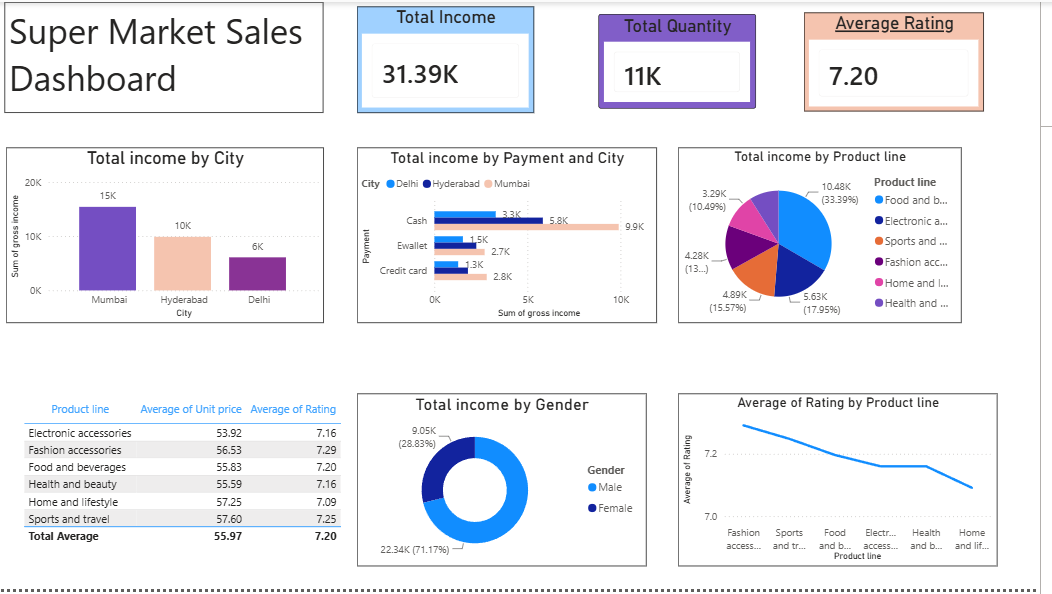

The page's visual inventory and layout, read from the dashboard file:
{"tool":"powerbi","page":{"name":"Page 1","canvas":[1280,720],"ordinal":0},"visuals":[{"type":"textbox","box":[9.4,0,391.2,136.1],"z":0},{"type":"cardVisual","title":"Total Income","fields":{"Data":["Sum(Sheet1.gross income)"]},"box":[441.8,5.5,217.2,130.7],"z":1000},{"type":"cardVisual","title":"Total Quantity","fields":{"Data":["Sum(Sheet1.Quantity)"]},"box":[738.2,14.7,193.3,116],"z":2000},{"type":"cardVisual","title":"Average Rating","fields":{"Data":["Avg(Sheet1.Rating)"]},"box":[990.4,12.9,220.9,121.5],"z":3000},{"type":"columnChart","title":"Total income by City","fields":{"Category":["Sheet1.City"],"Y":["Sum(Sheet1.gross income)"]},"box":[11,178.6,390.3,215.4],"z":4000},{"type":"clusteredBarChart","title":"Total income by Payment and City","fields":{"Category":["Sheet1.Payment"],"Y":["Sum(Sheet1.gross income)"],"Series":["Sheet1.City"]},"box":[441.8,178.6,368.2,215.4],"z":5000},{"type":"lineChart","fields":{"Category":["Sheet1.Product line"],"Y":["Avg(Sheet1.Rating)"]},"box":[835.7,480.5,392.1,211.7],"z":6000},{"type":"pieChart","title":"Total income by Product line","fields":{"Category":["Sheet1.Product line"],"Y":["Sum(Sheet1.gross income)"]},"box":[835.7,178.6,347.9,215.4],"z":6001},{"type":"donutChart","title":"Total income by Gender","fields":{"Category":["Sheet1.Gender"],"Y":["Sum(Sheet1.gross income)"]},"box":[441.8,480.5,355.3,211.7],"z":6002},{"type":"tableEx","fields":{"Values":["Sheet1.Product line","Avg(Sheet1.Unit price)","Avg(Sheet1.Rating)"]},"box":[27.6,484.1,399.5,211.7],"z":6003}]}

Visuals, with their boxes in screenshot pixels (x1, y1, x2, y2), scaled from the page's 1280x720 canvas onto the 1052x594 screenshot:
textbox: bbox(8, 0, 329, 112)
"Total Income" cardVisual: bbox(363, 5, 542, 112)
"Total Quantity" cardVisual: bbox(607, 12, 766, 108)
"Average Rating" cardVisual: bbox(814, 11, 996, 111)
"Total income by City" columnChart: bbox(9, 147, 330, 325)
"Total income by Payment and City" clusteredBarChart: bbox(363, 147, 666, 325)
lineChart - Sheet1.Product line x Avg(Sheet1.Rating): bbox(687, 396, 1009, 571)
"Total income by Product line" pieChart: bbox(687, 147, 973, 325)
"Total income by Gender" donutChart: bbox(363, 396, 655, 571)
tableEx - Sheet1.Product line x Avg(Sheet1.Unit price): bbox(23, 399, 351, 574)
